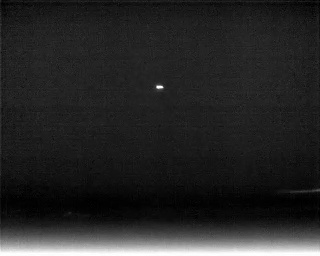AIRPLANE: (154, 82, 165, 92)
